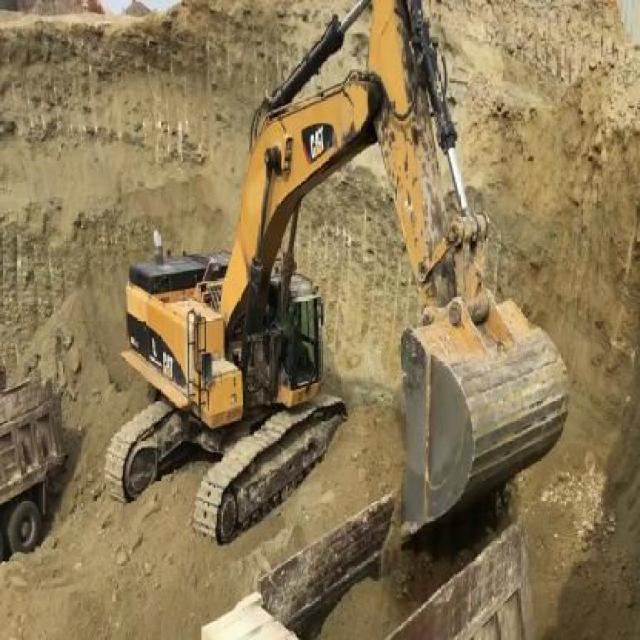Dump Truck: (200, 475, 537, 639), (0, 363, 66, 565)
Excavator: (102, 0, 570, 548)
